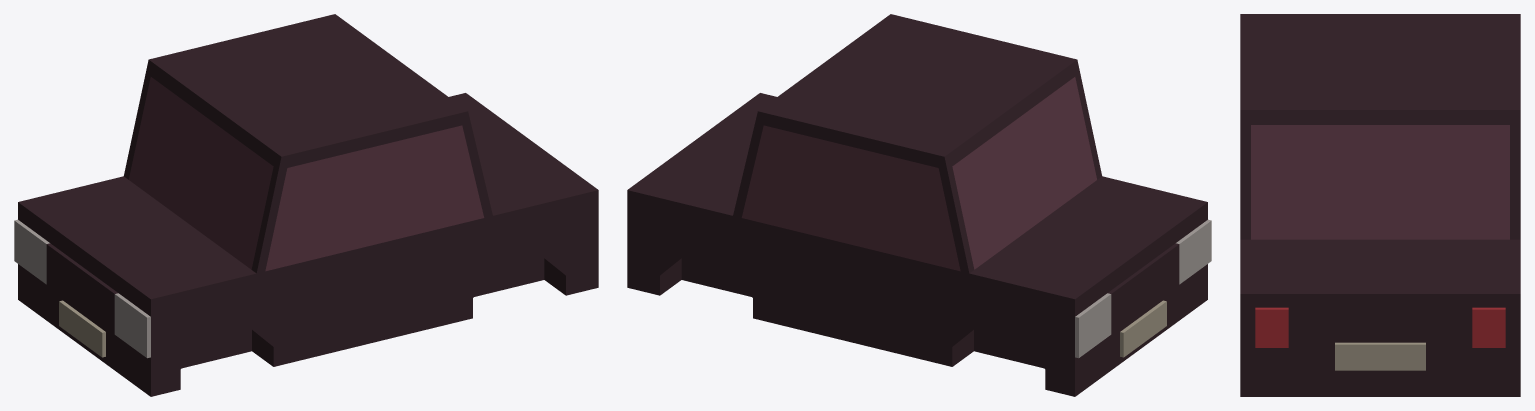
Rendered from Sedan_Black.fbx.
3 views of the same model, side by side, from view 1: azimuth 30°, elevation 25°; view 2: azimuth 150°, elevation 25°; view 3: azimuth 270°, elevation 25° (orthographic). The views are drawn at different scales.
Parts seen in each view (by area): view 1: Sedan_Black, Sedan_Lights; view 2: Sedan_Black, Sedan_Lights; view 3: Sedan_Black, Sedan_Lights.
Part boxes in pixels (bbox=[...]): Sedan_Black: bbox=[18, 14, 598, 396]; Sedan_Lights: bbox=[14, 219, 150, 358]; Sedan_Black: bbox=[627, 14, 1207, 396]; Sedan_Lights: bbox=[1075, 219, 1211, 358]; Sedan_Black: bbox=[1240, 14, 1520, 396]; Sedan_Lights: bbox=[1255, 307, 1505, 347].
Bounding box in the file's own units: 3.66 × 1.6 × 1.85.
